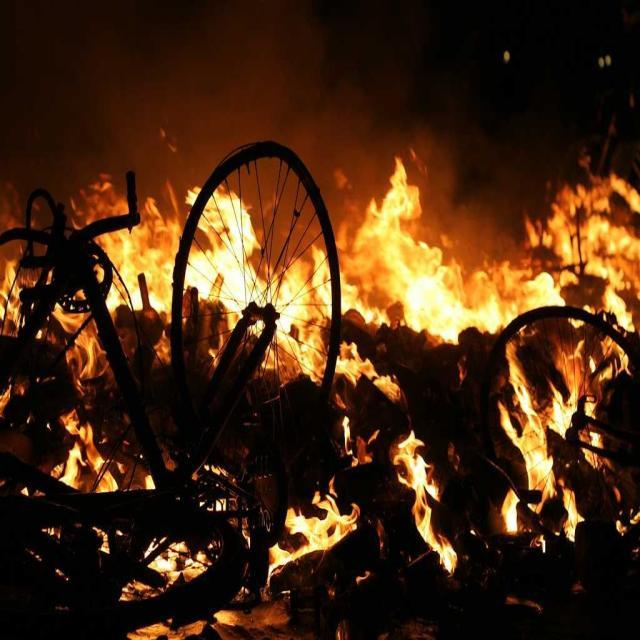Fire: (363, 168, 451, 328), (555, 176, 638, 280), (192, 192, 262, 298), (114, 217, 176, 302), (472, 261, 553, 314), (522, 404, 553, 504), (404, 438, 432, 526), (288, 501, 350, 539)
